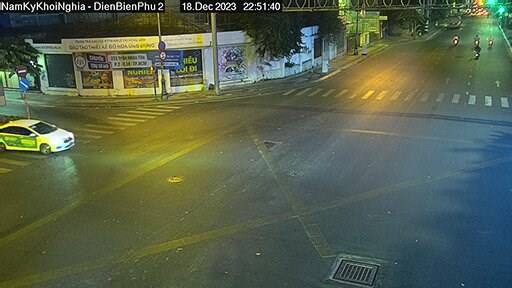car: (1, 114, 80, 160)
